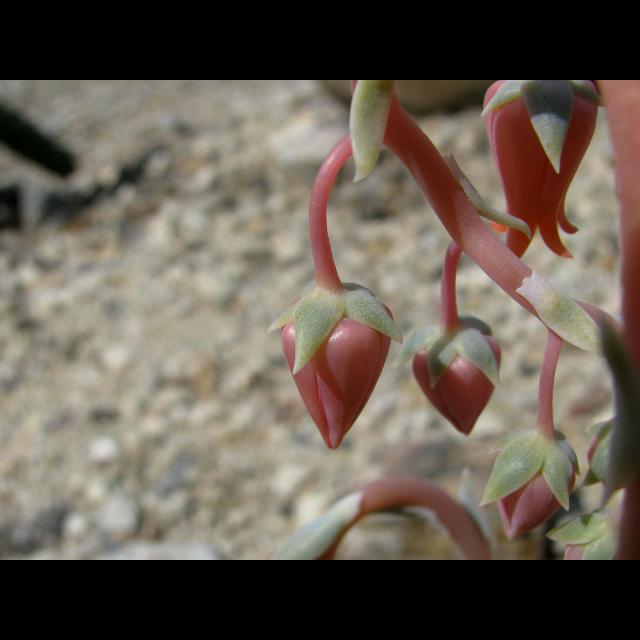Flower: (265, 154, 421, 450)
